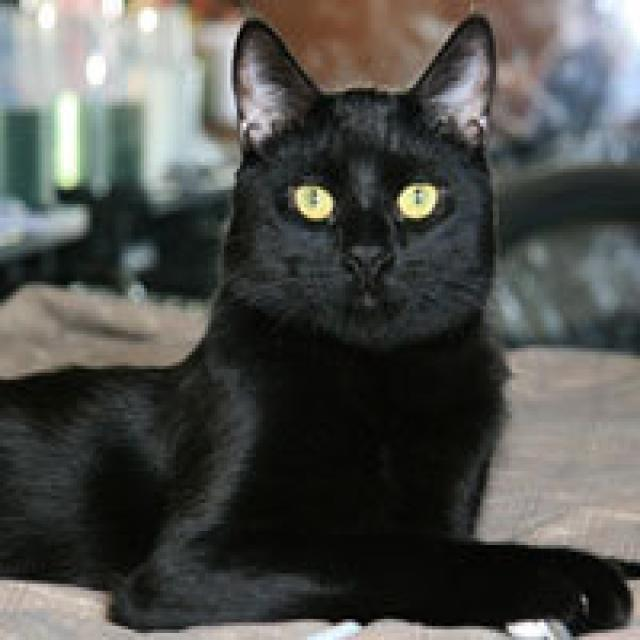Bombay: (221, 11, 490, 338)
